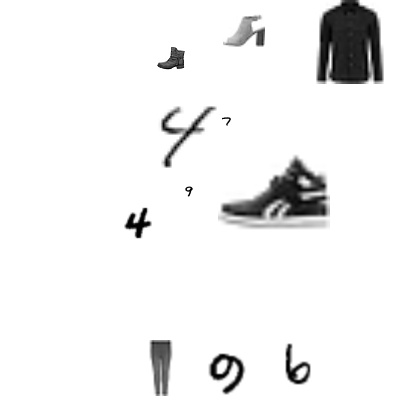4: (138, 89, 222, 173), (117, 202, 159, 244)
6: (266, 340, 322, 396)
7: (220, 113, 234, 127)
9: (199, 342, 255, 398), (182, 183, 196, 197)
Ankle_boot: (157, 44, 185, 72)
Sandal: (223, 9, 265, 51)
Shirt: (308, 0, 392, 84)
Sneaker: (218, 136, 330, 248)
Trouser: (132, 340, 188, 396)
